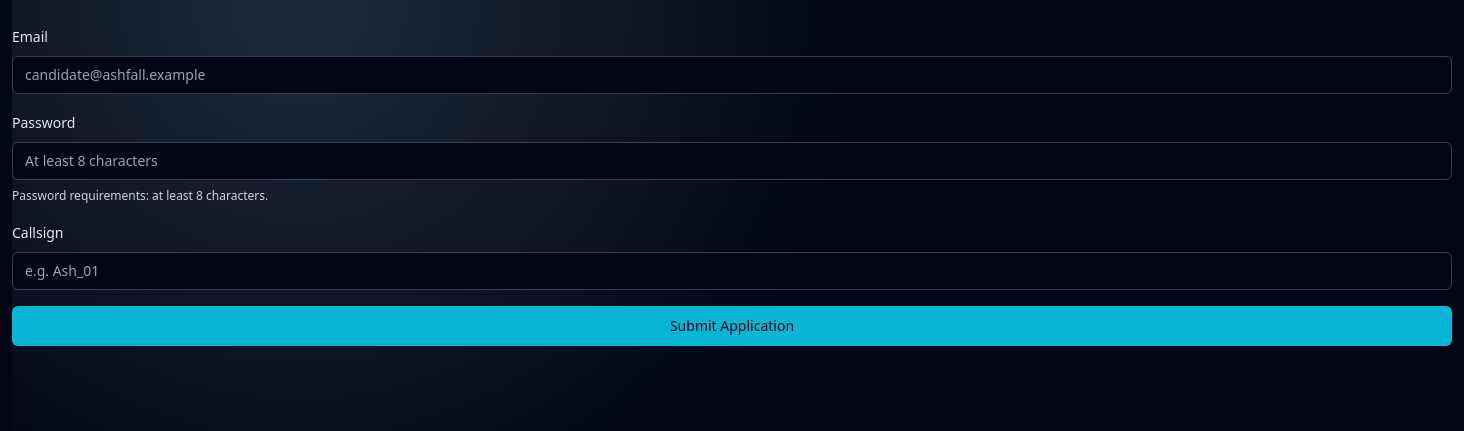
Test: ApplyForm › shows duplicate-email recovery links when account may already exist
The image size is (1464, 431).
Type "candidate@example.com" into the field labelled "Email". click: (732,75)
box: [12,56,1452,94]
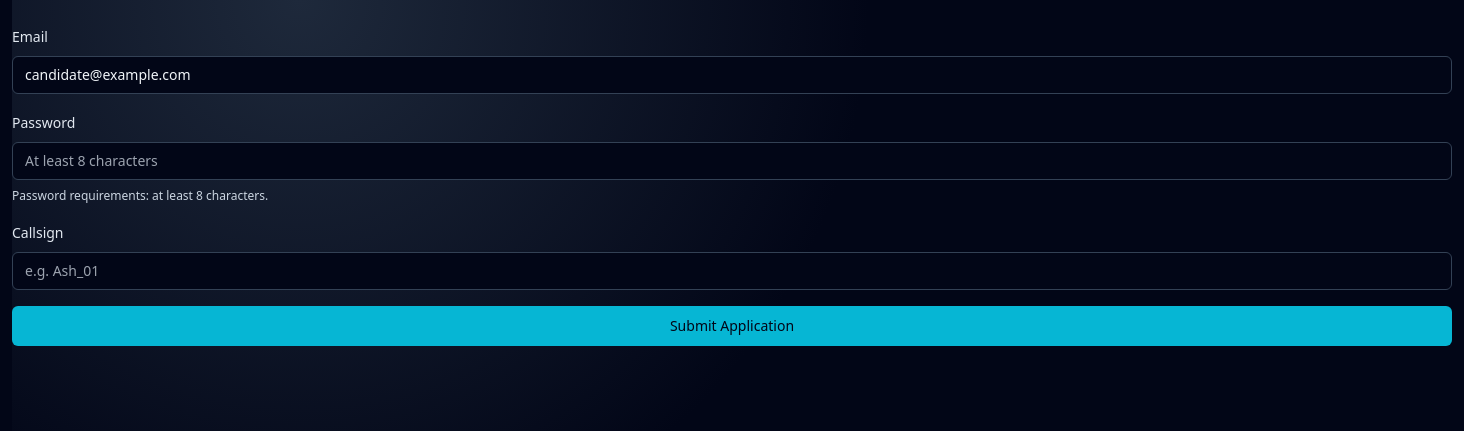
Type "securepass123" into the password field labelled "Password". click: (732,161)
box: [12,142,1452,180]
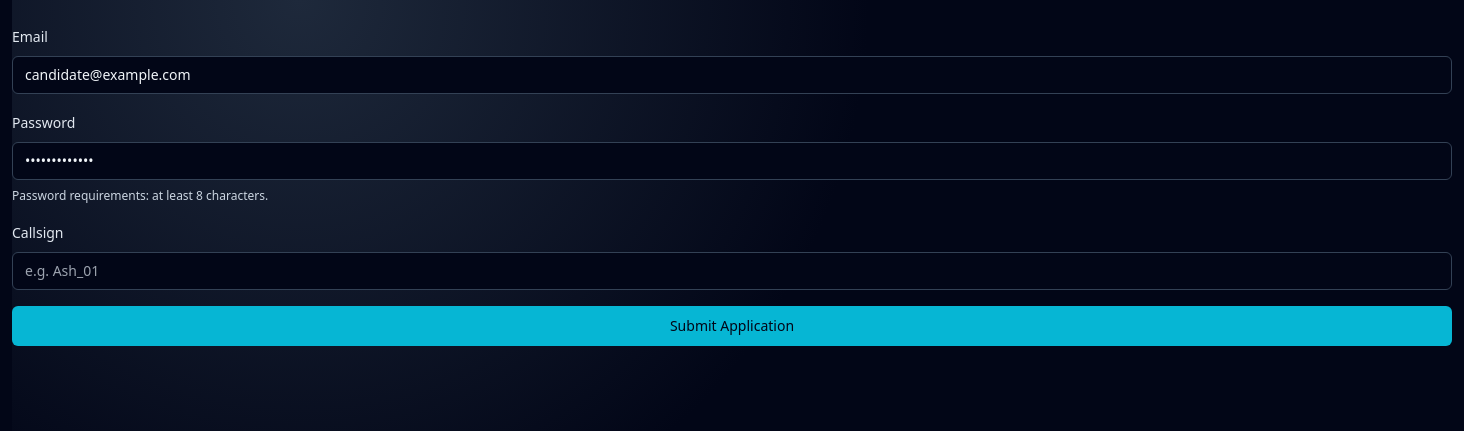
Type "Ash_01" into the field labelled "Callsign". click: (732,271)
box: [12,252,1452,290]
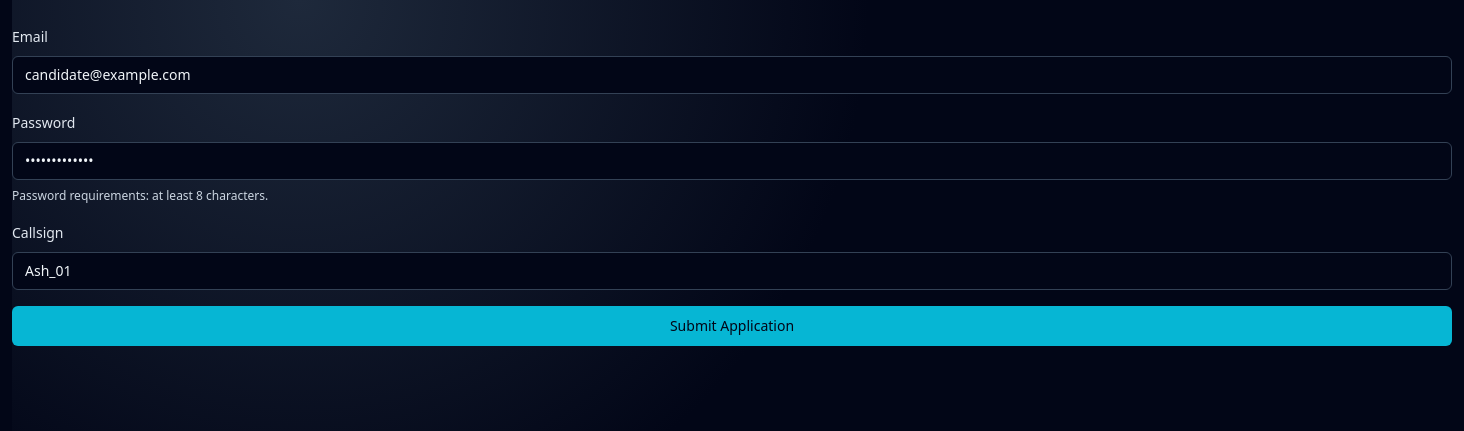
Click the button with test id "apply-submit". click: (732,326)
box: [12,306,1452,346]
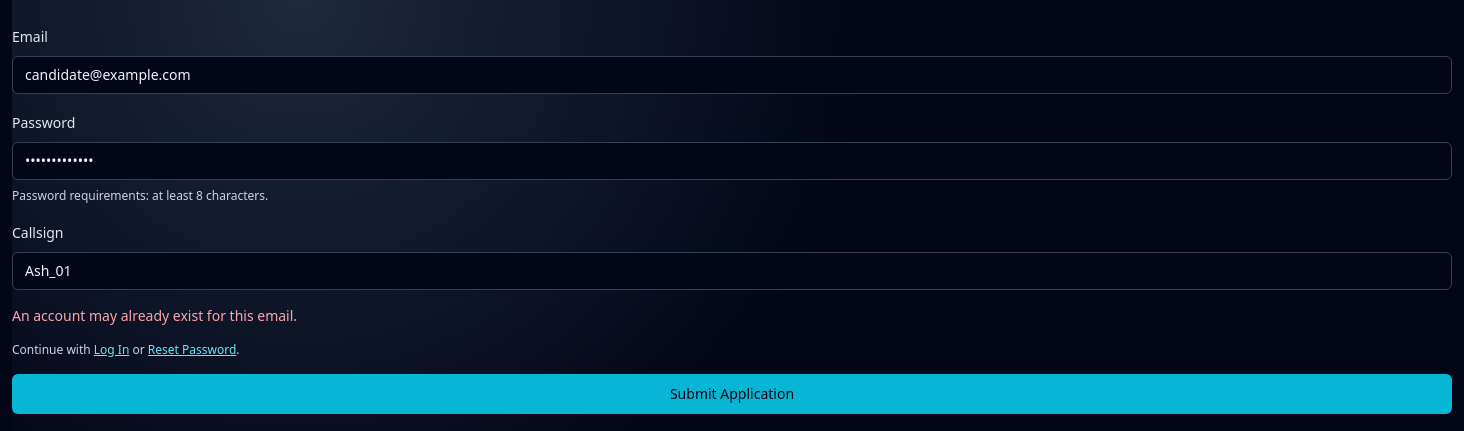
Check: the text "An account may already exist for this email." is shown, box [12,306,297,325]
Check: the link "Log In" is shown, box [94,341,129,358]
Check: the link "Reset Password" is shown, box [148,341,236,358]
